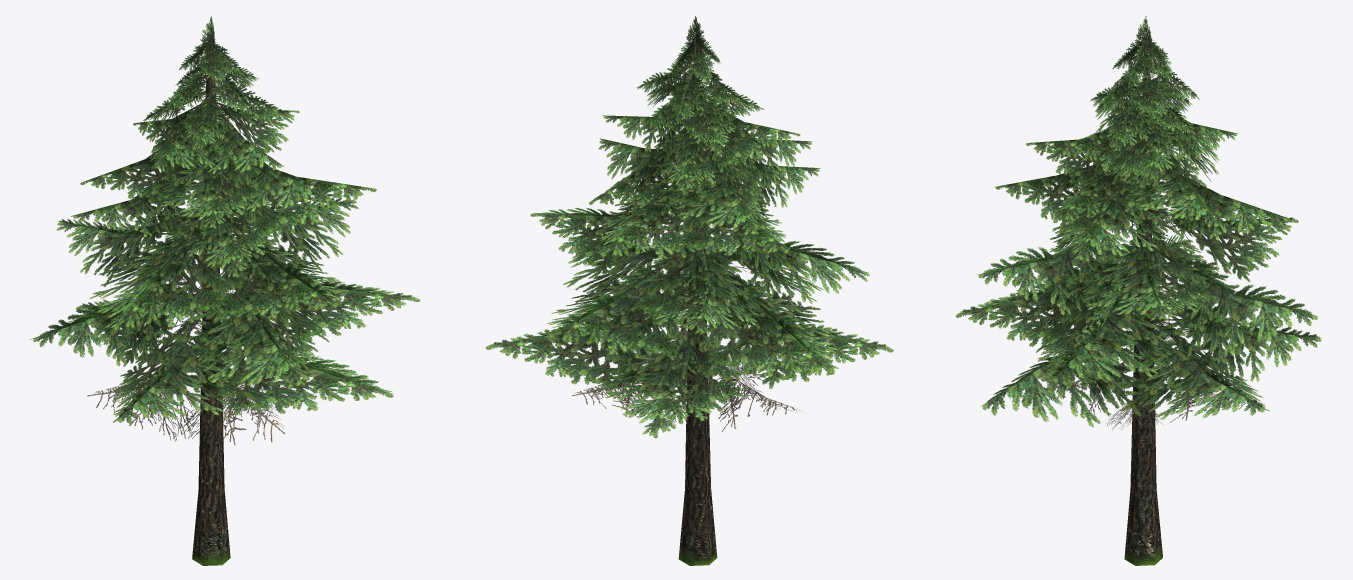
File: tree4_1.glb
3 renders of one model, left to right at view 1: azimuth 30°, elevation 25°; view 2: azimuth 150°, elevation 25°; view 3: azimuth 270°, elevation 25°, orthographic.
Visible parts, largest first — view 1: tree4_1-col; view 2: tree4_1-col; view 3: tree4_1-col.
Boxes of the visible parts, left/top/right/bottom form: tree4_1-col: left=30, top=16, right=419, bottom=565; tree4_1-col: left=485, top=16, right=893, bottom=565; tree4_1-col: left=955, top=16, right=1321, bottom=565.
Size of the model in its own units: 12.1 by 18 by 11.94.
3 materials, 3 textured.
